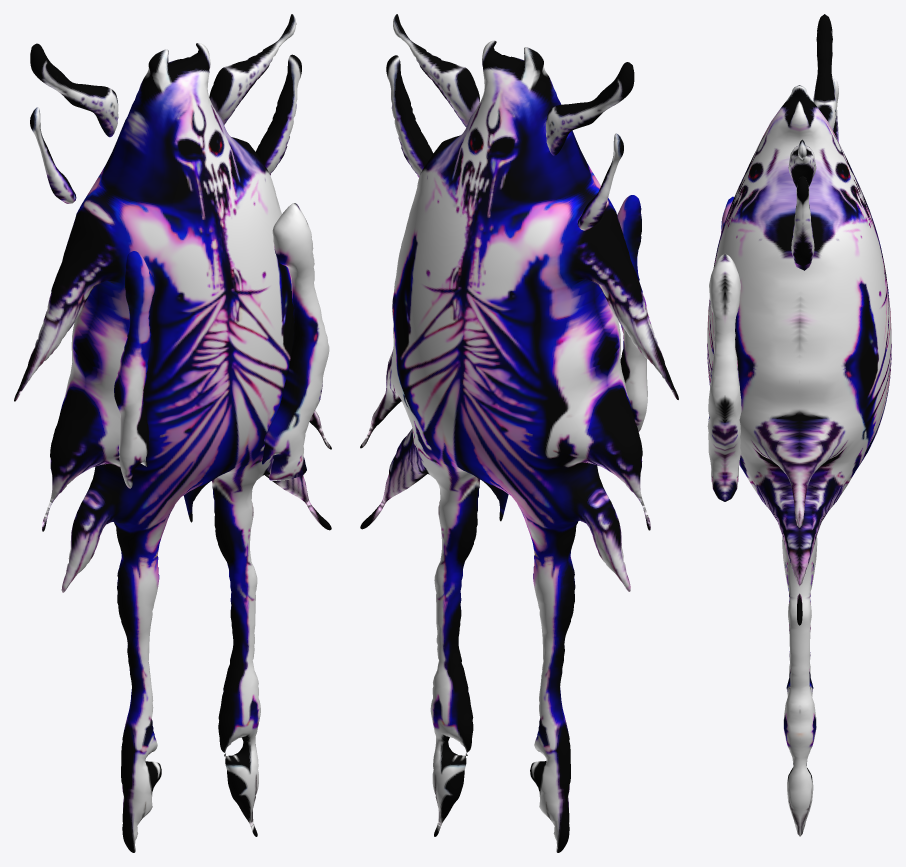
Rendered from angel1.glb.
3 renders of one model, left to right at view 1: azimuth 30°, elevation 25°; view 2: azimuth 150°, elevation 25°; view 3: azimuth 270°, elevation 25°, orthographic. The views are drawn at different scales.
Size of the model in its own units: 2.82 by 7.07 by 1.58.
1 material, 1 textured.
